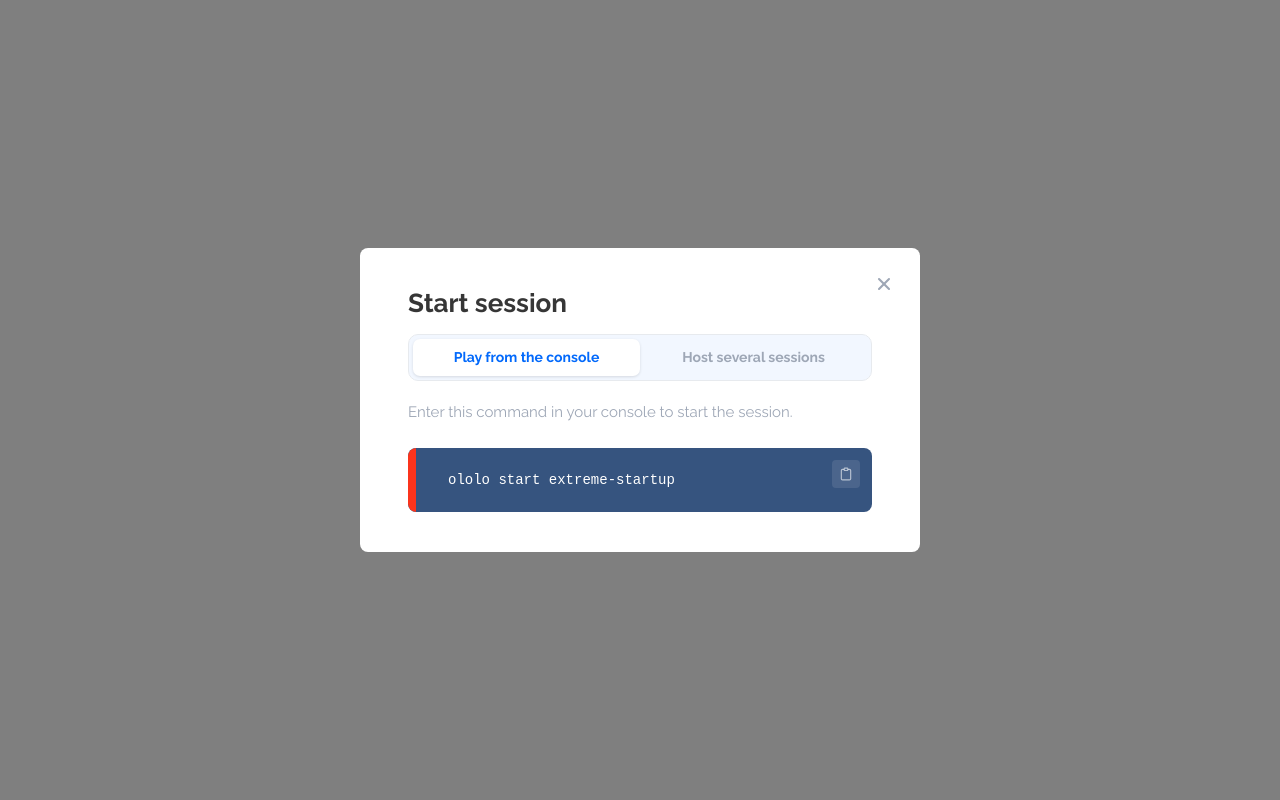
StartSessionPopup › lists the admin's own live sessions of the project, from the server
Click the tab "Host several sessions": (754, 358) [640,339,867,376]
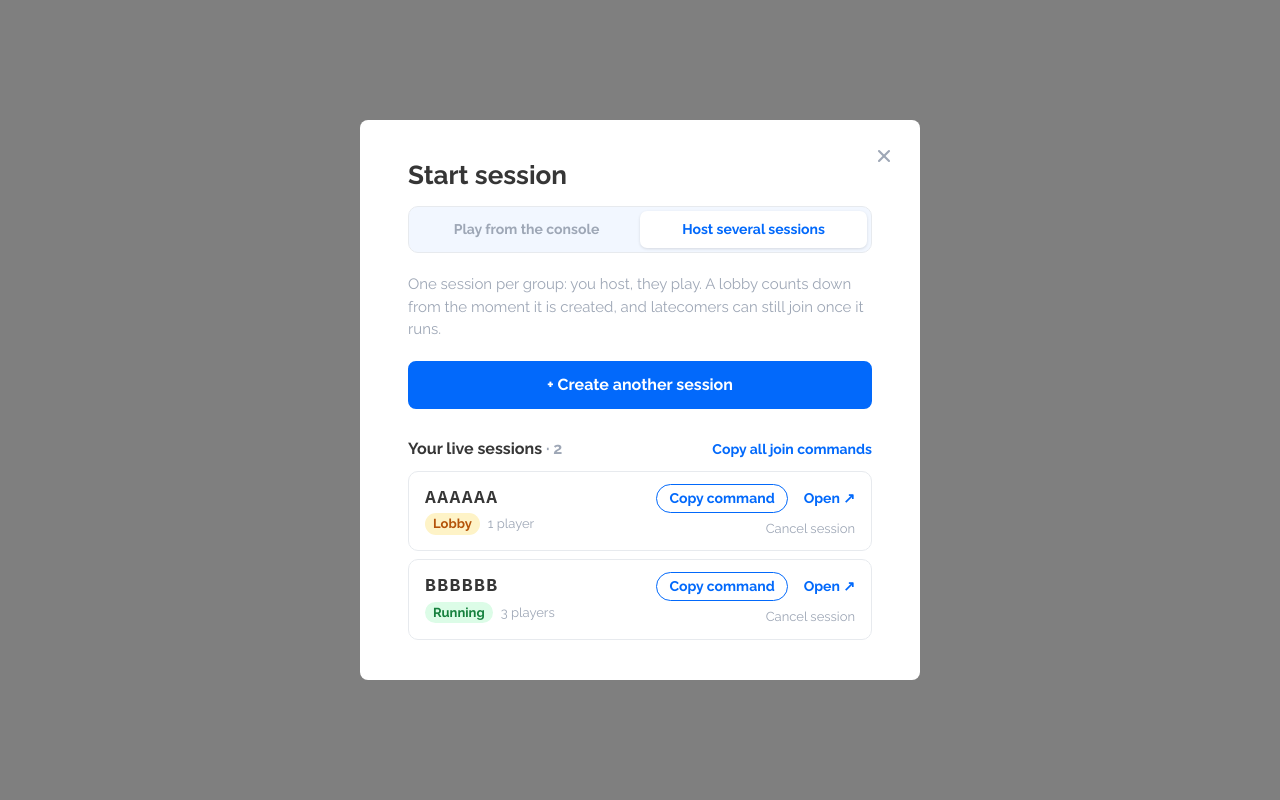
Expected: the button "+ Create another session" is shown, [408,361,872,409]
